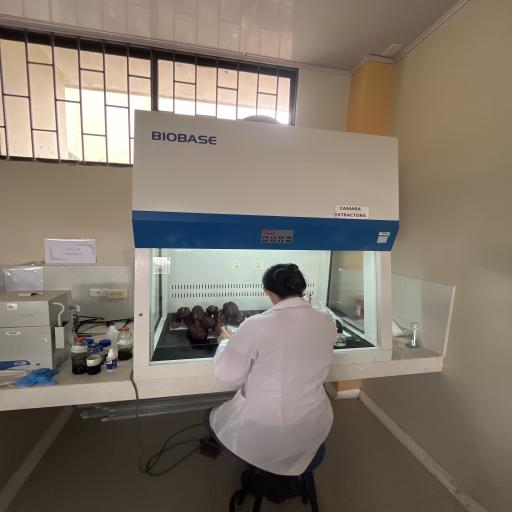Camara_Extractora_Biobase: (118, 99, 410, 388)
